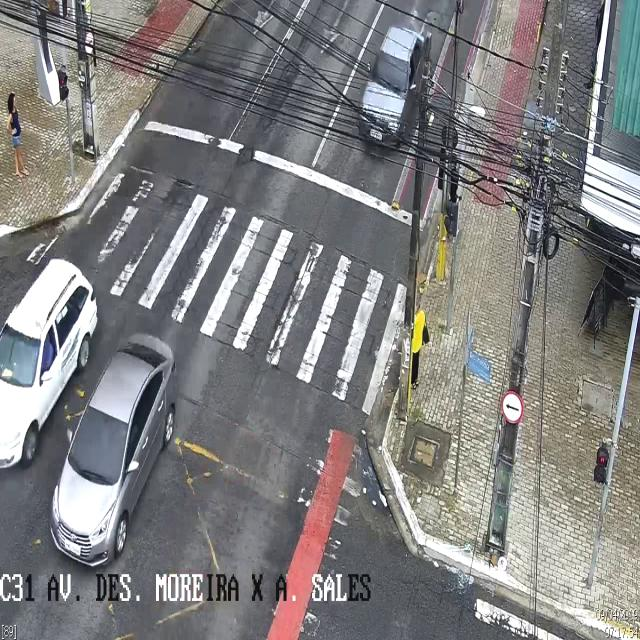Car: (51, 333, 176, 564), (1, 259, 100, 473), (358, 26, 431, 156)
